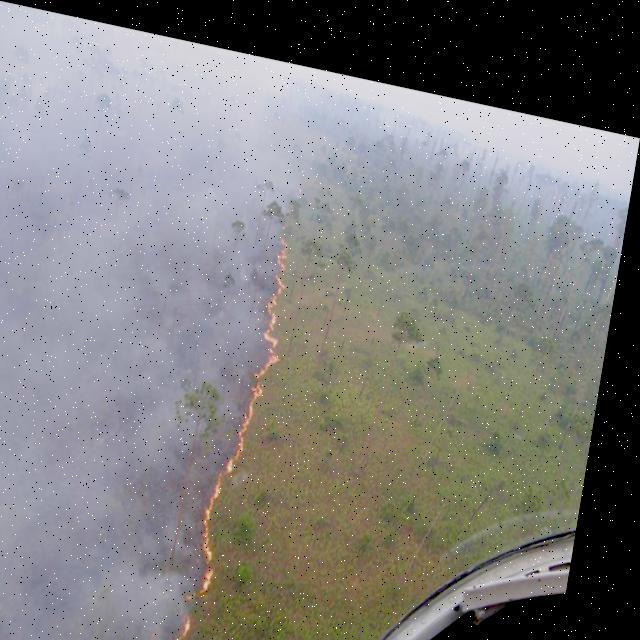Fire: (237, 219, 304, 459), (208, 459, 244, 585), (167, 593, 215, 639)
